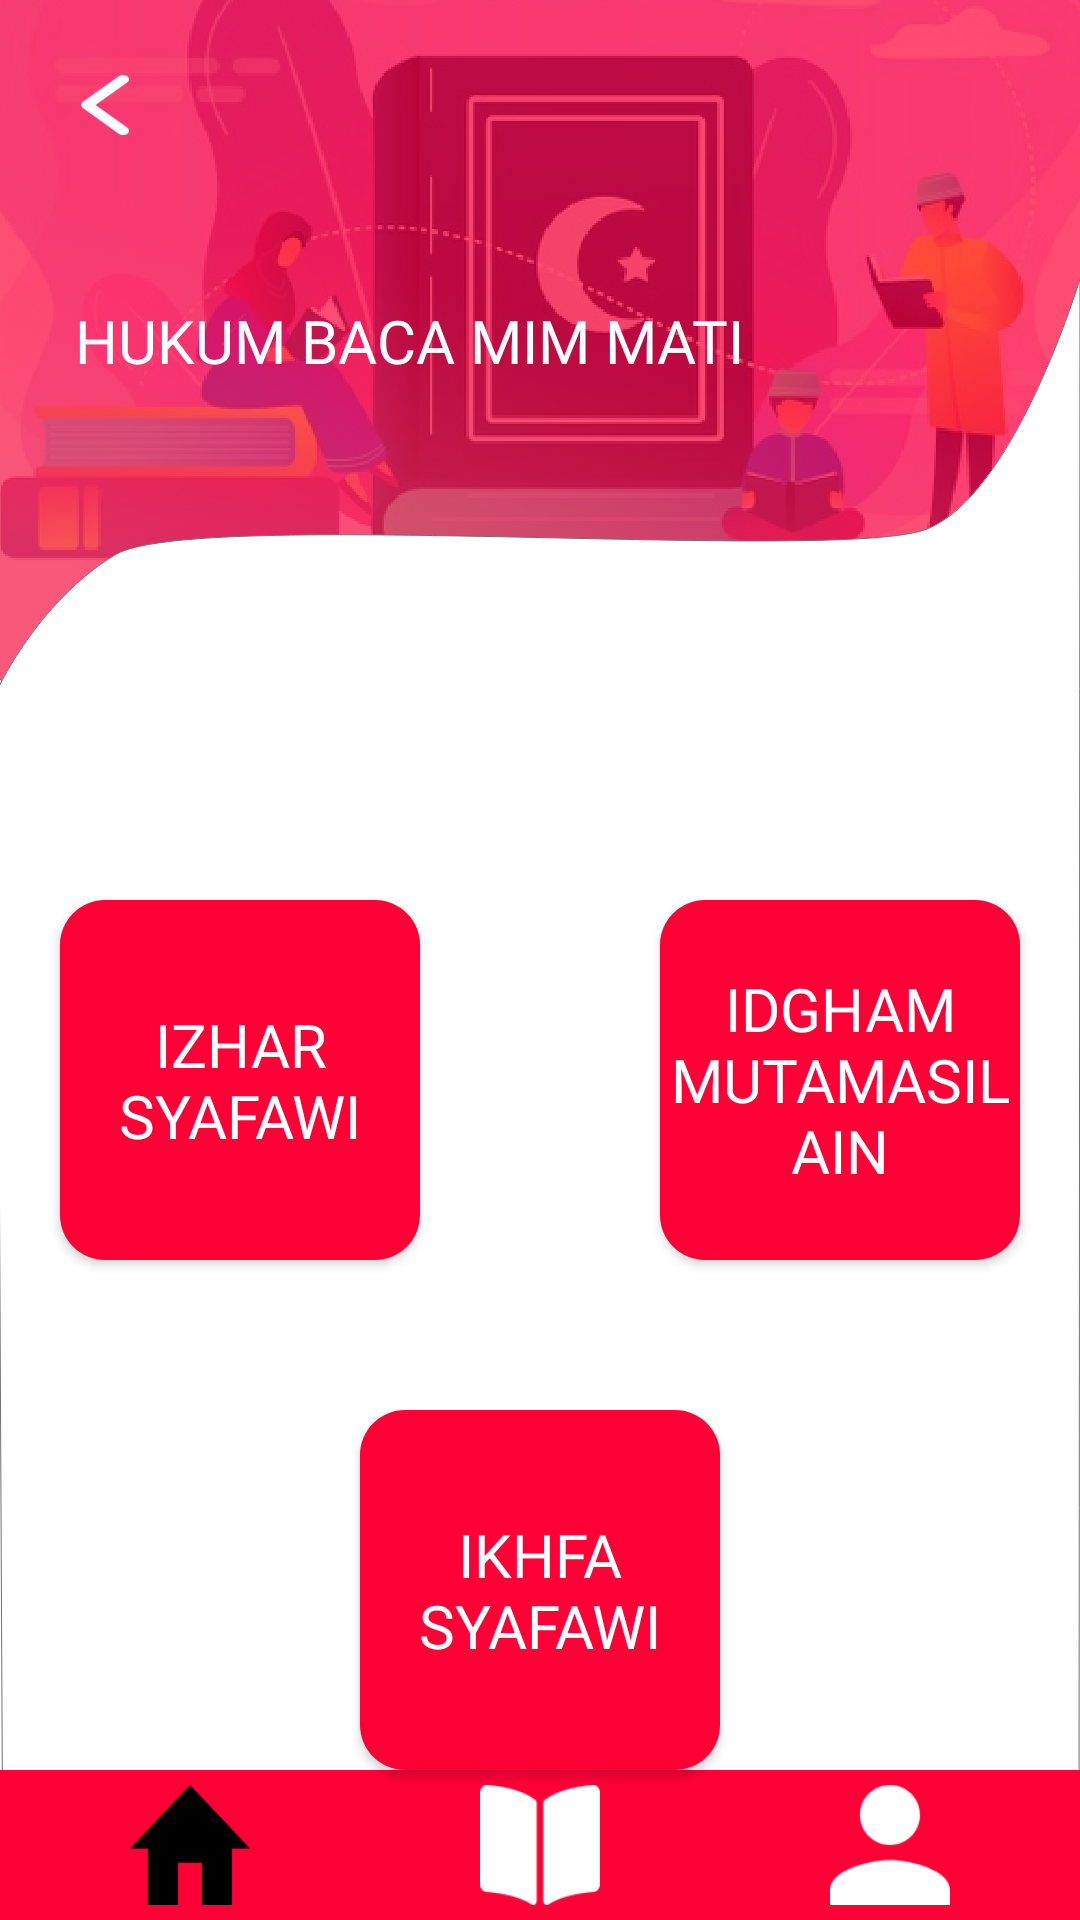

Point at icon controls on the screen. Image size 1080px×1920px, points as point (x, y).
akun: point (890, 1845)
back: point (105, 105)
home: point (190, 1845)
